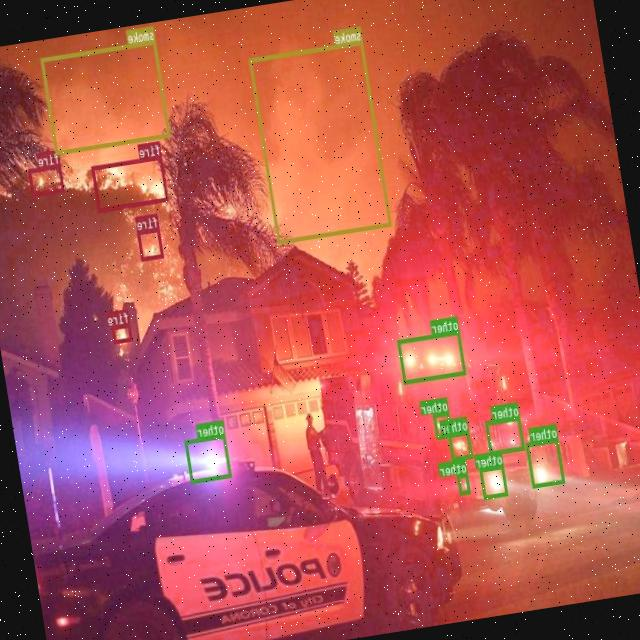fire: (92, 154, 169, 212), (28, 164, 65, 196), (138, 228, 164, 260), (112, 322, 134, 343)
smoke: (248, 40, 392, 244), (41, 39, 171, 154)
